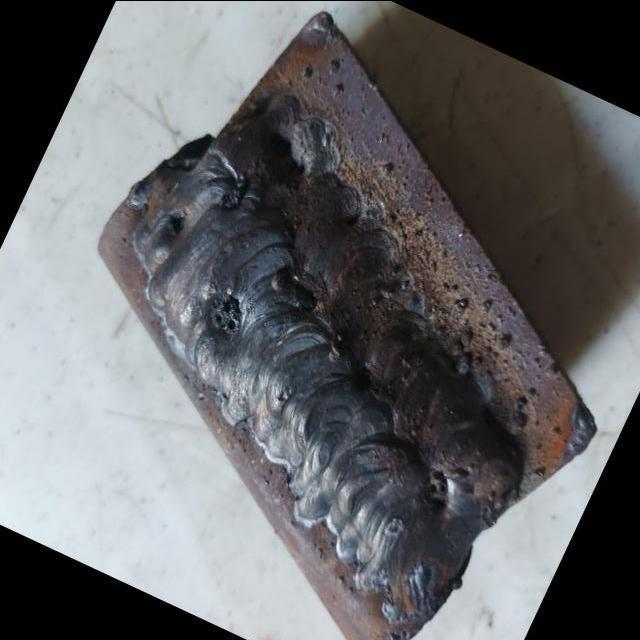defect: (204, 288, 244, 340), (216, 166, 256, 214), (424, 460, 453, 518), (164, 203, 191, 236), (352, 366, 375, 397), (384, 518, 402, 537)
